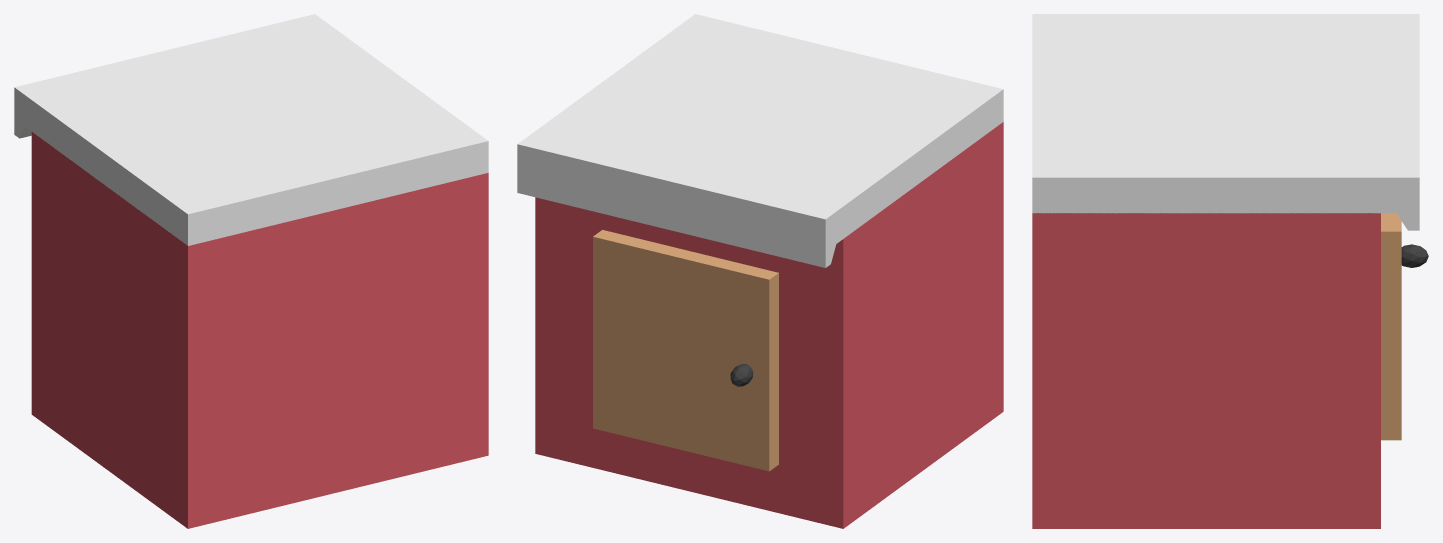
File: CuttingStand.fbx
3 renders of one model, left to right at view 1: azimuth 30°, elevation 25°; view 2: azimuth 150°, elevation 25°; view 3: azimuth 270°, elevation 25°, orthographic. The views are drawn at different scales.
Visible parts, largest first — view 1: Cube; view 2: Cube; view 3: Cube.
Part boxes in pixels (bbox=[...]): Cube: bbox=[14, 14, 488, 528]; Cube: bbox=[517, 14, 1003, 528]; Cube: bbox=[1032, 14, 1428, 528].
Bounding box in the file's own units: 12.5 × 12.5 × 12.79.
